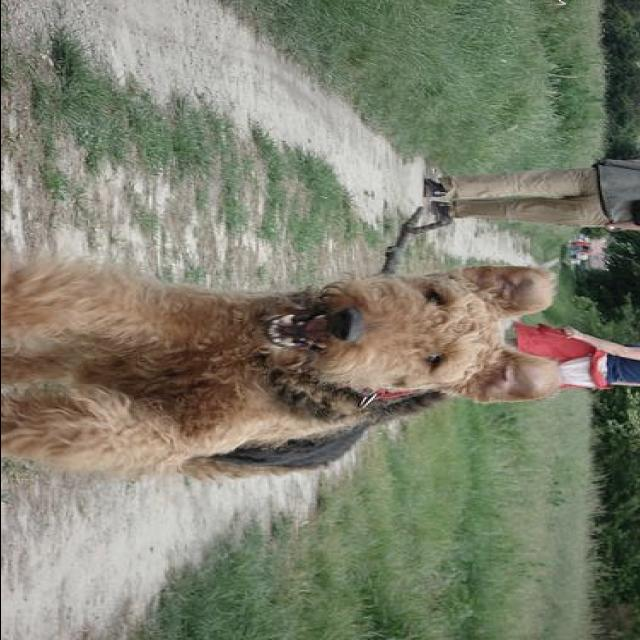airedale: (2, 252, 560, 481)
